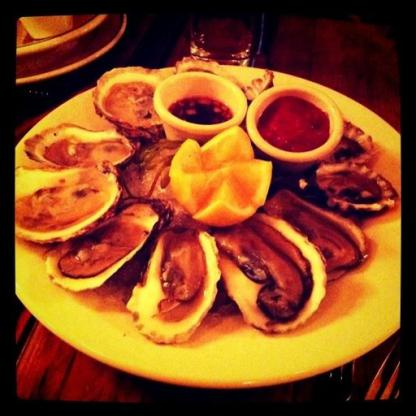oyster: (213, 214, 328, 336), (127, 228, 214, 348), (47, 202, 160, 282), (269, 191, 368, 272), (10, 165, 115, 236), (93, 64, 172, 132), (25, 123, 130, 170)
